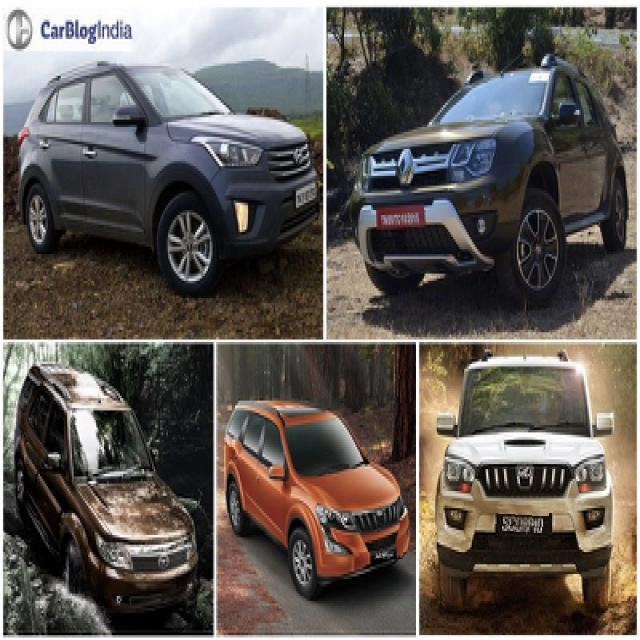licence: (490, 501, 550, 537), (362, 540, 403, 559)
